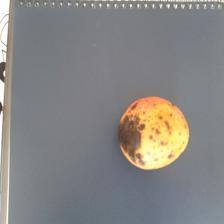Mango Semirotten: (116, 93, 190, 169)
